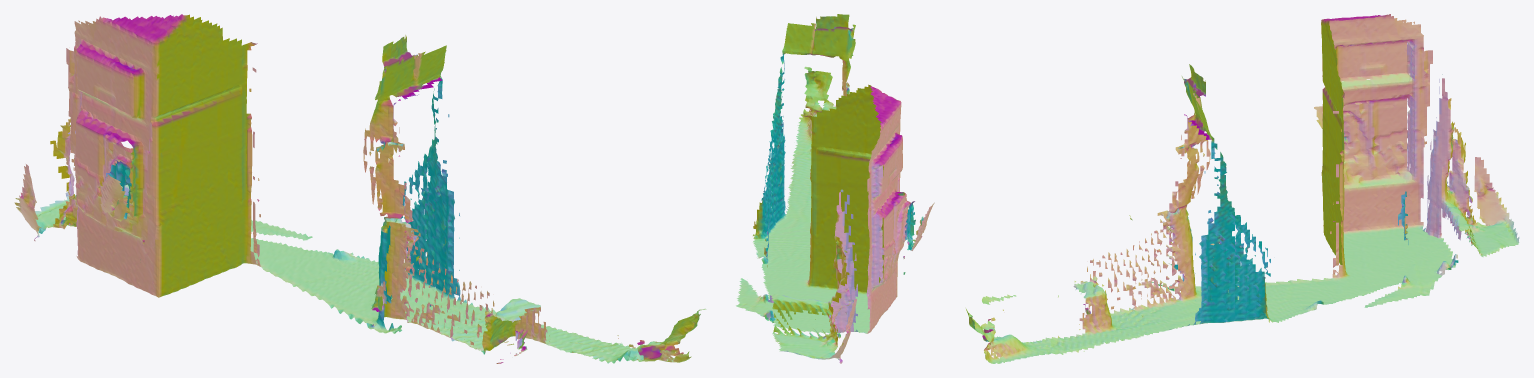
The model's file is AbundanceScan-2026-11-15_102923.glb.
3 views of the same model, side by side, from view 1: azimuth 30°, elevation 25°; view 2: azimuth 150°, elevation 25°; view 3: azimuth 270°, elevation 25° (orthographic). The views are drawn at different scales.
Parts seen in each view (by area): view 1: AbundanceScan-2026-11-15_102923.glb; view 2: AbundanceScan-2026-11-15_102923.glb; view 3: AbundanceScan-2026-11-15_102923.glb.
Part boxes in pixels (bbox=[...]): AbundanceScan-2026-11-15_102923.glb: bbox=[14, 14, 706, 363]; AbundanceScan-2026-11-15_102923.glb: bbox=[736, 14, 934, 363]; AbundanceScan-2026-11-15_102923.glb: bbox=[966, 14, 1519, 363].
Size of the model in its own units: 3.74 by 2.7 by 5.69.
